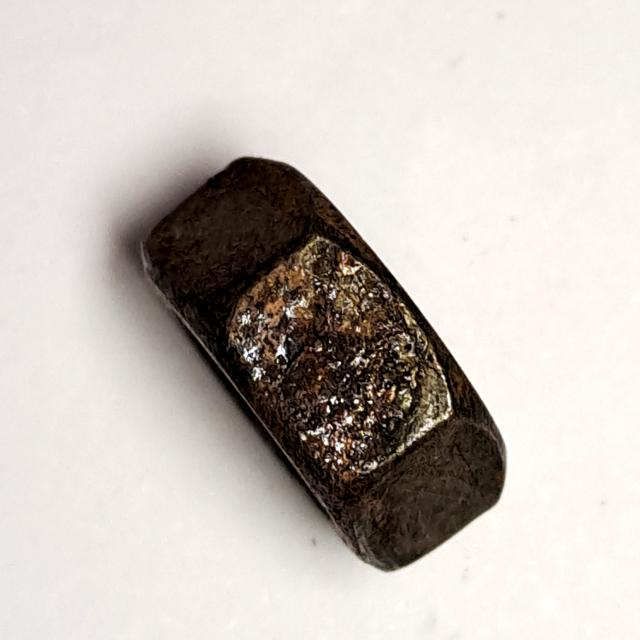Side_Rust: (130, 145, 525, 585)
